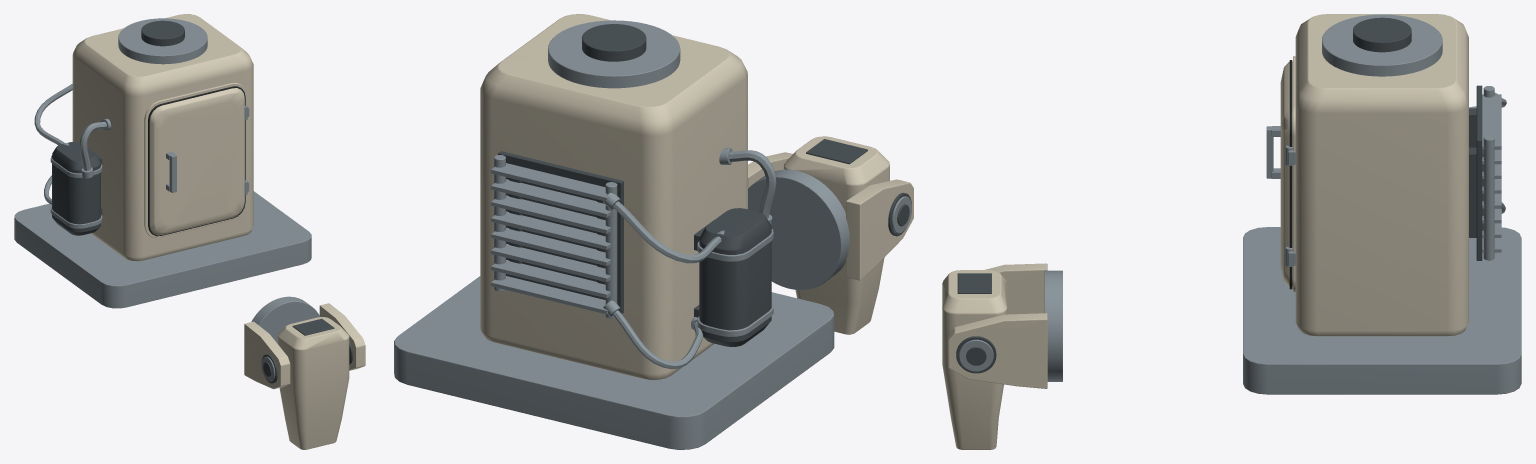
The model's file is Tower_Aura_Freez.fbx.
3 renders of one model, left to right at view 1: azimuth 30°, elevation 25°; view 2: azimuth 150°, elevation 25°; view 3: azimuth 270°, elevation 25°, orthographic. The views are drawn at different scales.
Visible parts, largest first — view 1: StaticBody, PitchPivot, YawMount; view 2: StaticBody, YawMount, PitchPivot; view 3: StaticBody, YawMount, PitchPivot.
Boxes of the visible parts, x1,y1,x2,y2 form: StaticBody: (14, 14, 311, 308); PitchPivot: (277, 317, 349, 449); YawMount: (244, 296, 365, 389); StaticBody: (394, 14, 834, 449); YawMount: (748, 152, 913, 289); PitchPivot: (783, 136, 889, 334); StaticBody: (1243, 14, 1521, 394); YawMount: (948, 263, 1062, 388); PitchPivot: (942, 270, 1007, 449).
Size of the model in its own units: 2.1 by 2.91 by 3.74.
